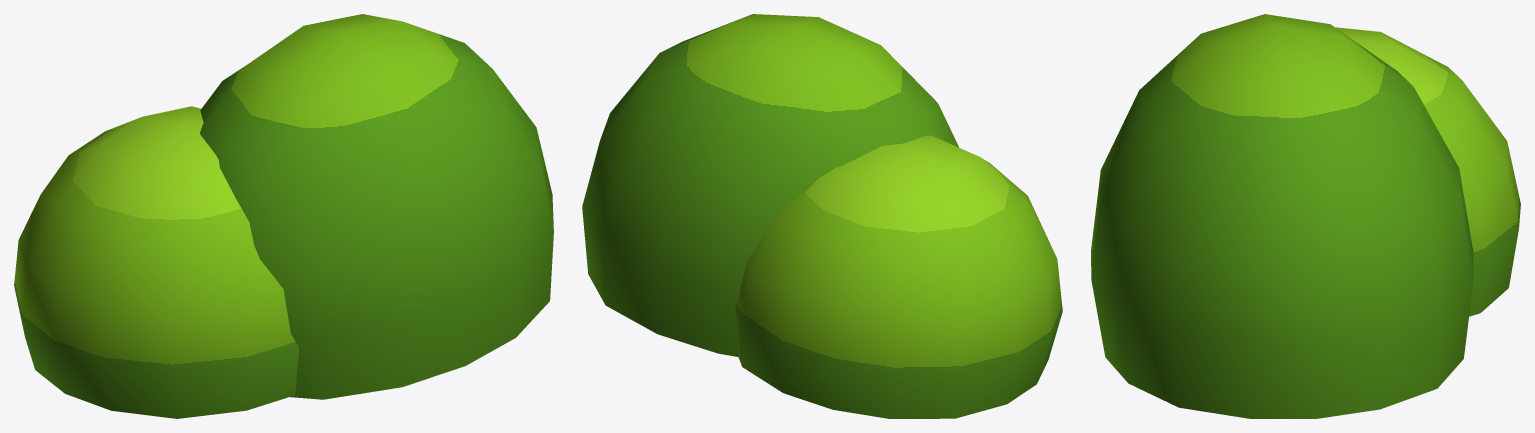
The model's file is Bush_Big.fbx.
The picture shows the model from 3 angles, left to right: view 1: azimuth 30°, elevation 25°; view 2: azimuth 150°, elevation 25°; view 3: azimuth 270°, elevation 25°; orthographic projection. The views are drawn at different scales.
Visible parts, largest first — view 1: Roundcube.004; view 2: Roundcube.004; view 3: Roundcube.004.
Boxes of the visible parts, box(x1,y1,x2,y2) form: Roundcube.004: box(14, 14, 553, 418); Roundcube.004: box(582, 14, 1062, 418); Roundcube.004: box(1091, 14, 1520, 418).
Size of the model in its own units: 86.77 by 52.7 by 62.48.
